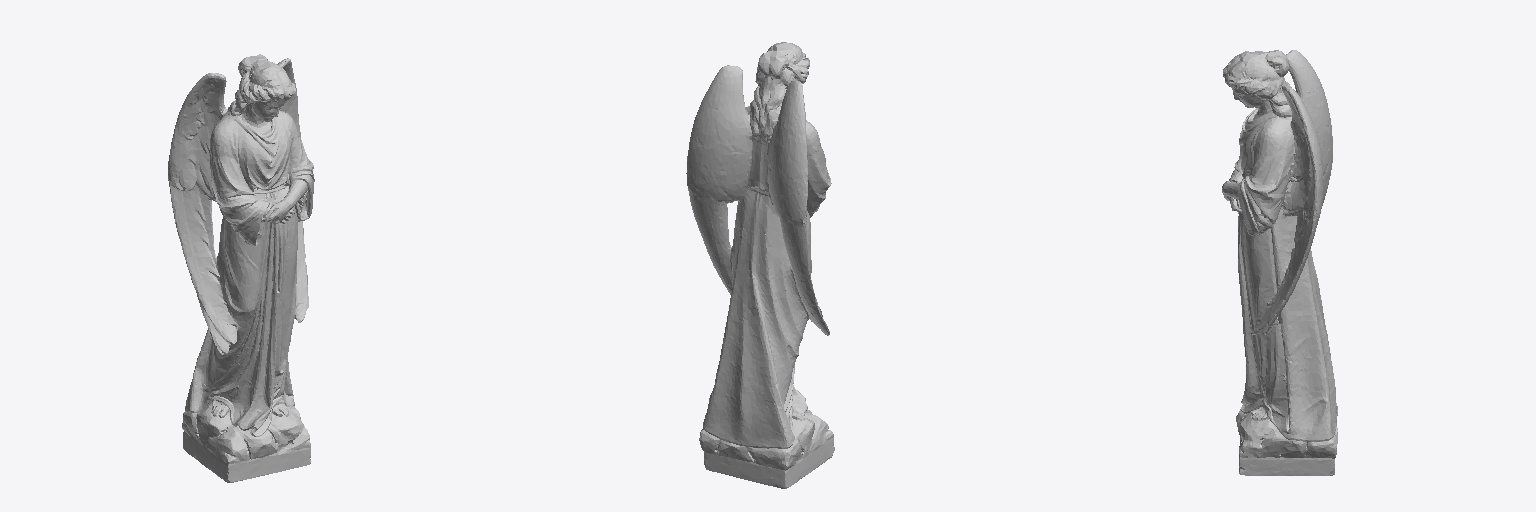
Rendered from pray.obj.
3 views of the same model, side by side, from view 1: azimuth 30°, elevation 25°; view 2: azimuth 150°, elevation 25°; view 3: azimuth 270°, elevation 25° (orthographic).
Visible parts, largest first — view 1: angel_26k_angel_26k_u1_v1_0; view 2: angel_26k_angel_26k_u1_v1_0; view 3: angel_26k_angel_26k_u1_v1_0.
Boxes of the visible parts, box(x1,y1,x2,y2) form: angel_26k_angel_26k_u1_v1_0: box(168, 54, 314, 482); angel_26k_angel_26k_u1_v1_0: box(686, 42, 834, 488); angel_26k_angel_26k_u1_v1_0: box(1222, 50, 1337, 475).
Bounding box in the file's own units: 5.53 × 16.84 × 4.4.